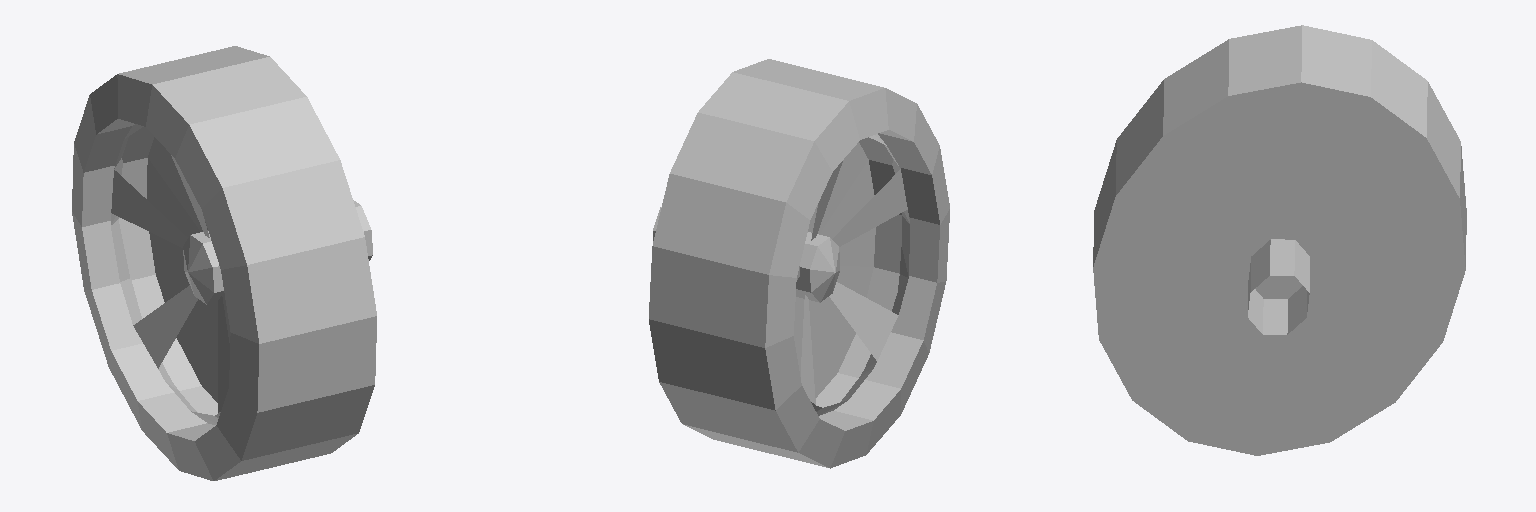
File: wheel_1.obj
The picture shows the model from 3 angles: view 1: azimuth 30°, elevation 25°; view 2: azimuth 150°, elevation 25°; view 3: azimuth 270°, elevation 25°; orthographic projection.
Parts seen in each view (by area): view 1: car_1; view 2: car_1; view 3: car_1.
Boxes of the visible parts, <box> form: car_1: <box>72,46,376,480</box>; car_1: <box>649,59,949,468</box>; car_1: <box>1093,25,1466,455</box>.
Size of the model in its own units: 0.3574 by 0.6262 by 0.5712.